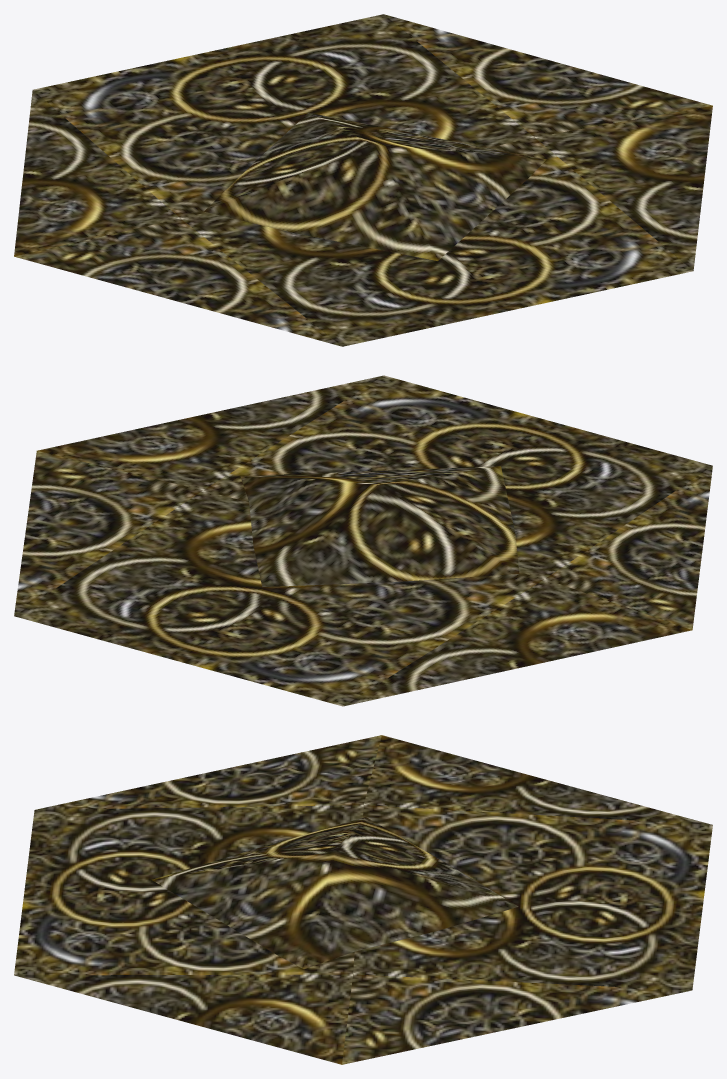
Rendered from shop_jeweler_junkBarrel01.fbx.
The picture shows the model from 3 angles, top to bottom: view 1: azimuth 30°, elevation 25°; view 2: azimuth 150°, elevation 25°; view 3: azimuth 270°, elevation 25°; orthographic projection.
Visible parts, largest first — view 1: shop_jeweler_junkBarrel; view 2: shop_jeweler_junkBarrel; view 3: shop_jeweler_junkBarrel.
Boxes of the visible parts, <box> form: shop_jeweler_junkBarrel: <box>14,14,712,346</box>; shop_jeweler_junkBarrel: <box>14,375,712,706</box>; shop_jeweler_junkBarrel: <box>14,735,712,1064</box>.
Bounding box in the file's own units: 303 × 19.91 × 271.
Materials: 1 (1 with a texture image).
